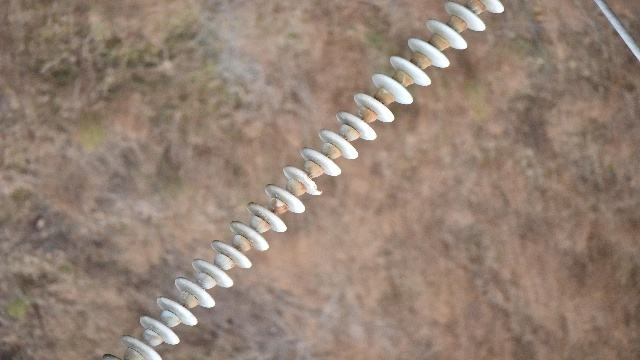broken_local: (302, 171, 322, 195)
insulator_unspecified: (103, 0, 506, 359)
